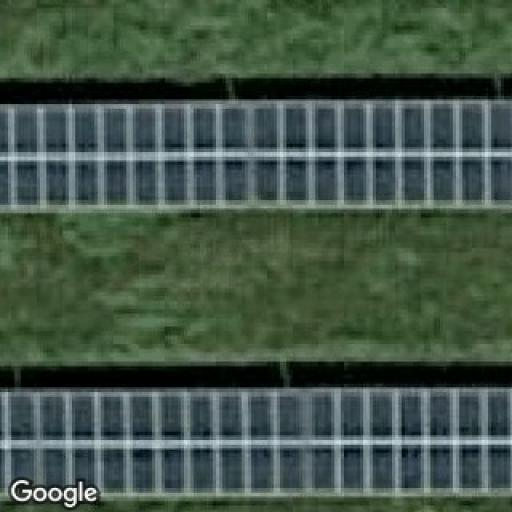solar-panel: (3, 392, 512, 499), (1, 104, 512, 208)
